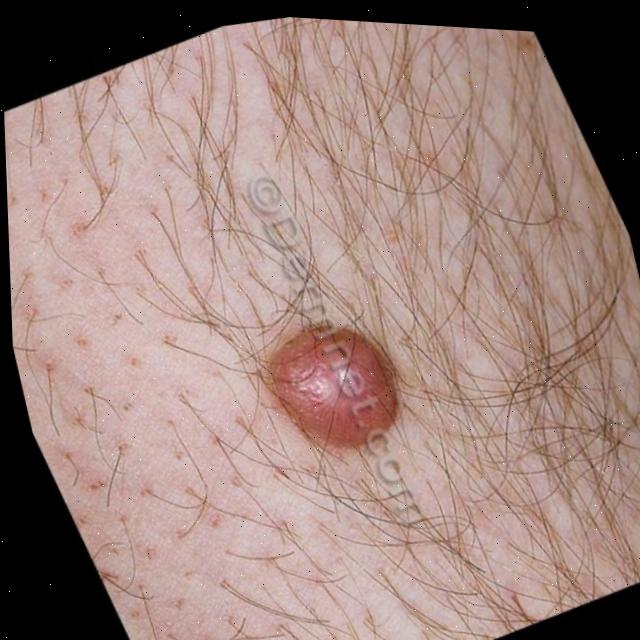Eczema: (283, 323, 389, 443)
